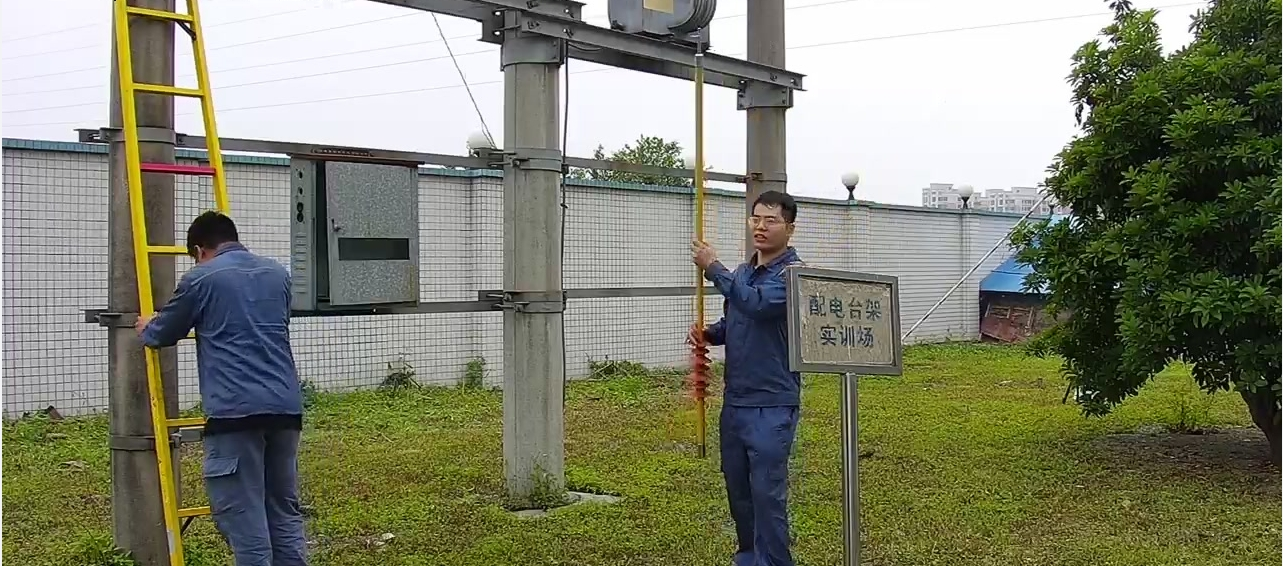安全帽、安全绳均未佩戴的工作人员: (132, 208, 309, 565)
未带安全帽的工作人员: (685, 187, 807, 565)
